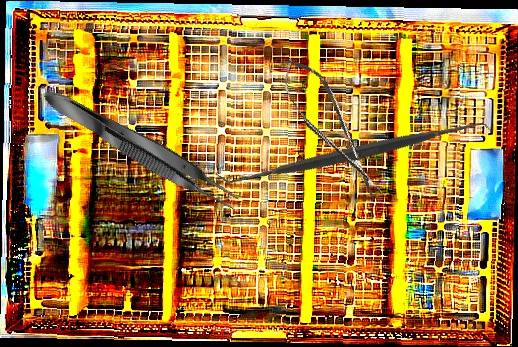Micro Scissor: (273, 49, 391, 210)
Spatula Surgical: (214, 12, 494, 294)
Tissue Forceps: (37, 79, 245, 218)
